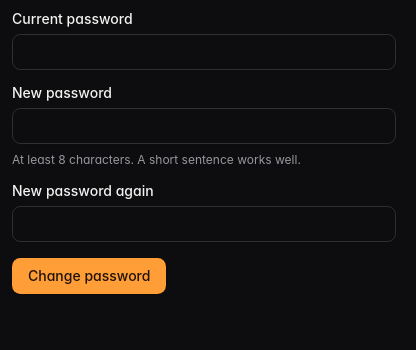
Test: the change password form › asks for the current password when it is empty, and sends nothing
In the password field labelled "New password": (204, 126) [12,108,396,144], type "a new sentence"
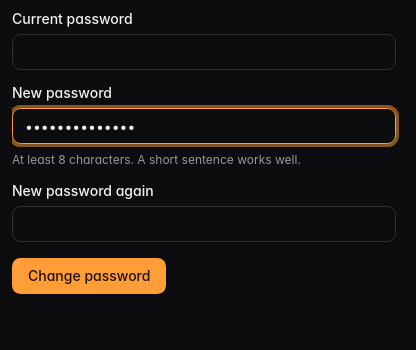
In the password field labelled "New password again": (204, 224) [12,206,396,242], type "a new sentence"
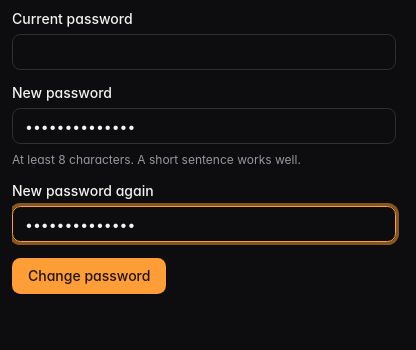
Click the button "Change password": (89, 276) [12,258,166,294]
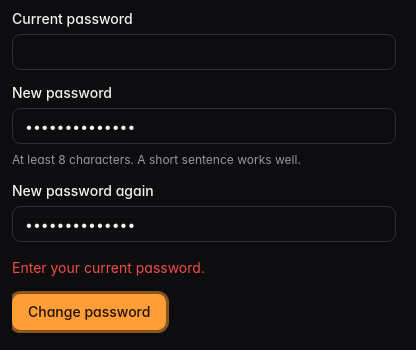
Expected: the message reads "Enter your current password.", [12,259,205,276]
